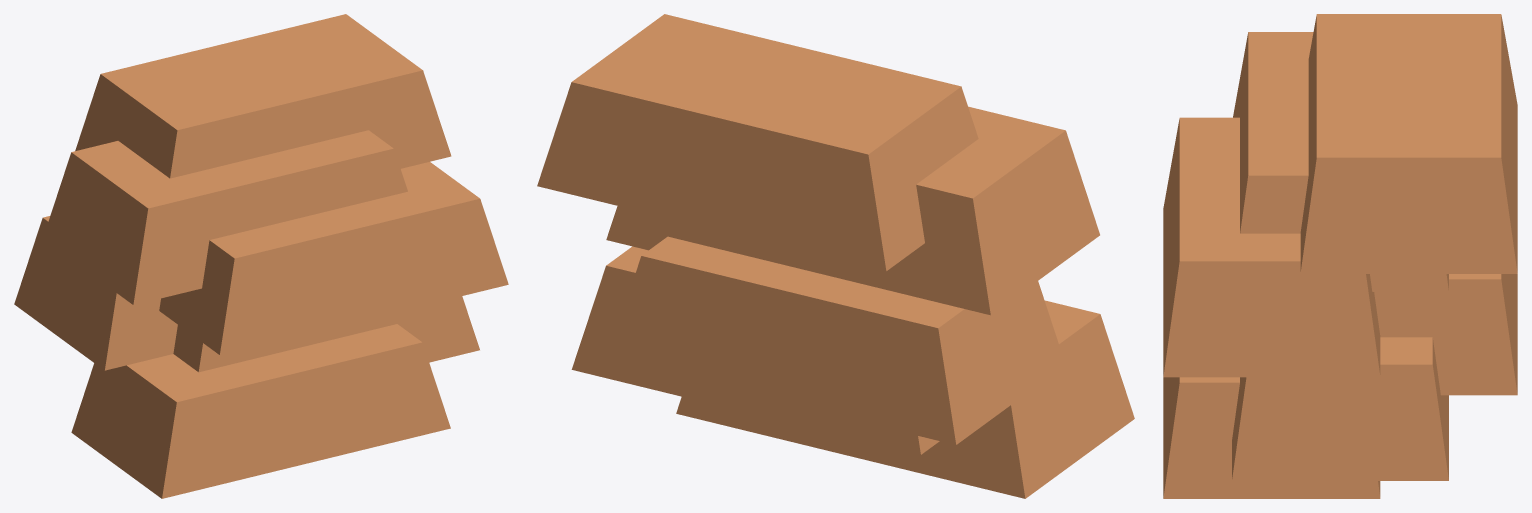
File: item_076_copper_ingot_l.glb
The picture shows the model from 3 angles, left to right: view 1: azimuth 30°, elevation 25°; view 2: azimuth 150°, elevation 25°; view 3: azimuth 270°, elevation 25°; orthographic projection. The views are drawn at different scales.
Parts seen in each view (by area): view 1: item_076_copper_ingot_l; view 2: item_076_copper_ingot_l; view 3: item_076_copper_ingot_l.
Part boxes in pixels (x1,y1,x2,y2): item_076_copper_ingot_l: (14, 14, 508, 498); item_076_copper_ingot_l: (537, 14, 1134, 498); item_076_copper_ingot_l: (1163, 14, 1517, 498).
Size of the model in its own units: 0.42 by 0.35 by 0.31.
